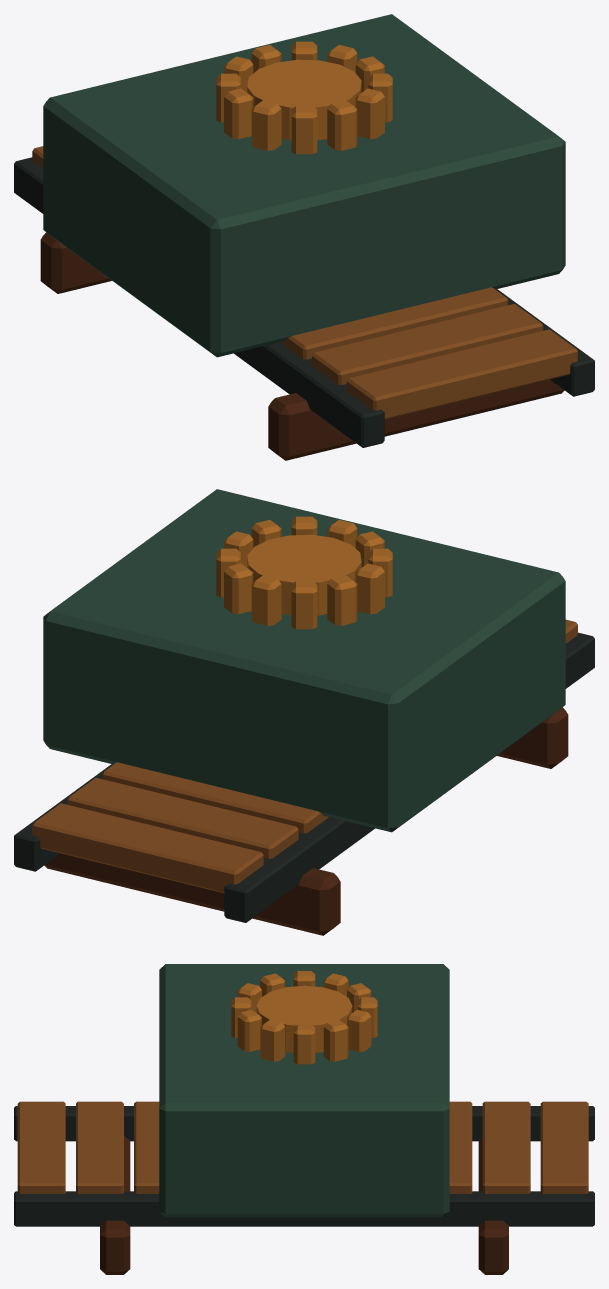
Rendered from splitter.glb.
3 renders of one model, top to bottom at view 1: azimuth 30°, elevation 25°; view 2: azimuth 150°, elevation 25°; view 3: azimuth 270°, elevation 25°, orthographic. The views are drawn at different scales.
Parts seen in each view (by area): view 1: splitter_body, Hub.007; view 2: splitter_body, Hub.007; view 3: splitter_body, Hub.007.
Boxes of the visible parts, <box> form: splitter_body: <box>14,14,594,460</box>; Hub.007: <box>216,41,392,154</box>; splitter_body: <box>14,489,594,935</box>; Hub.007: <box>216,516,392,629</box>; splitter_body: <box>14,964,594,1274</box>; Hub.007: <box>231,971,377,1064</box>.
Size of the model in its own units: 1.35 by 0.955 by 2.3.
